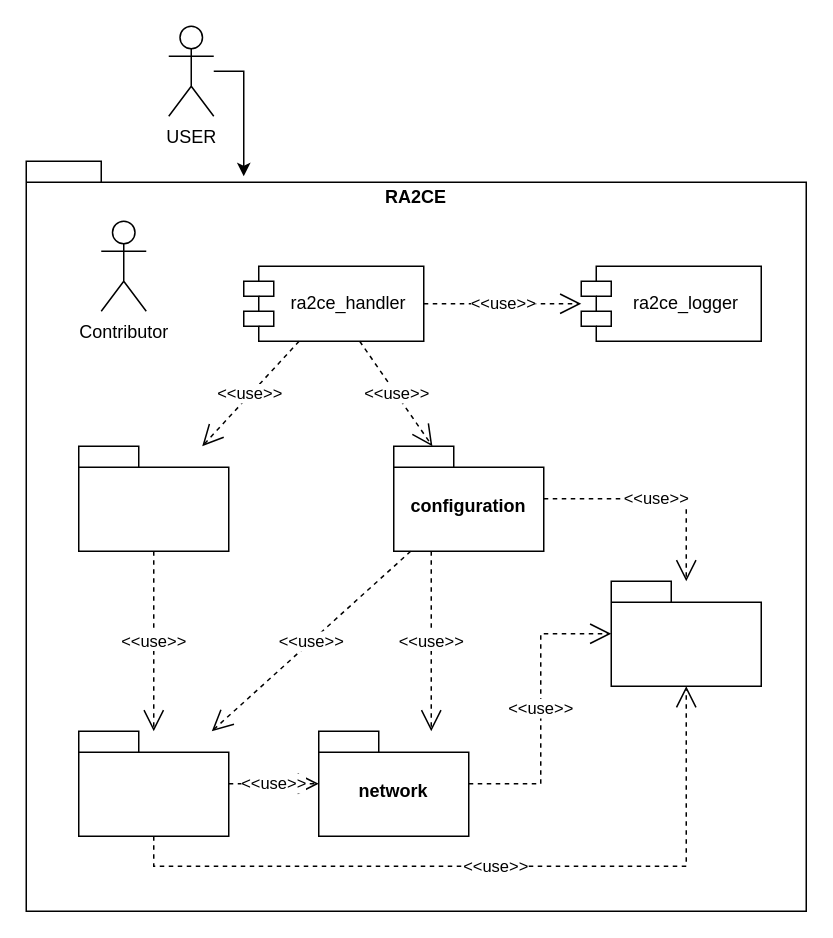
This 833x938 diagram has some shape labels left out. Each missing label, with the centre of its shape:
"analysis" belongs at (x=153, y=783).
"common" belongs at (x=685, y=633).
"runners" belongs at (x=153, y=498).
